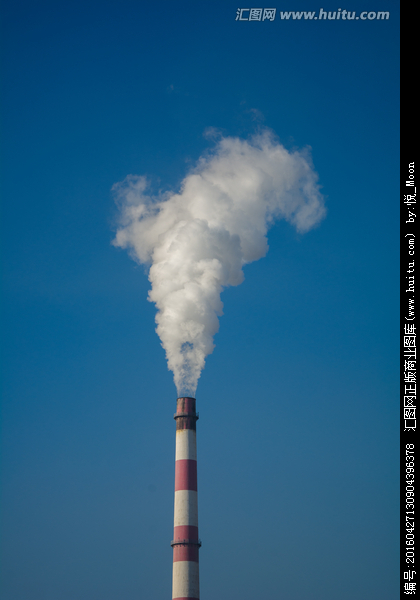dust: (113, 129, 326, 413)
